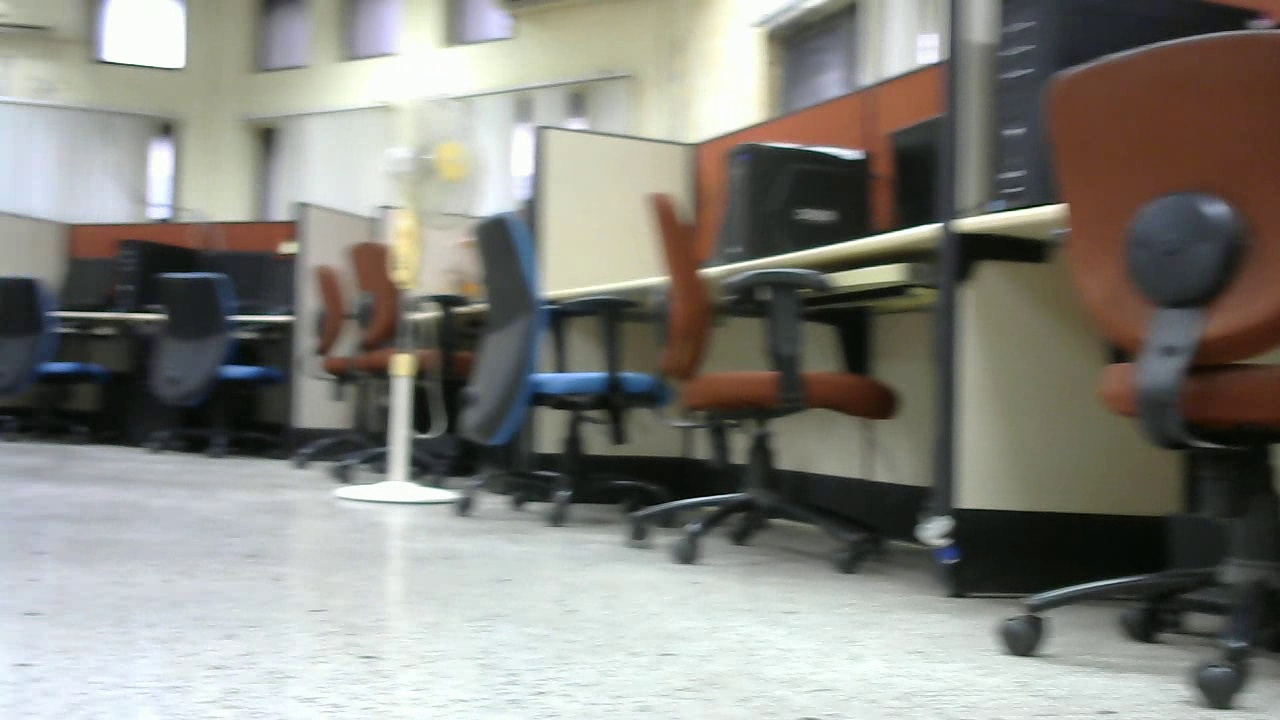chair: (986, 26, 1280, 711), (629, 189, 891, 580), (465, 219, 679, 535), (301, 239, 501, 491), (134, 262, 294, 458), (1, 278, 121, 435)
